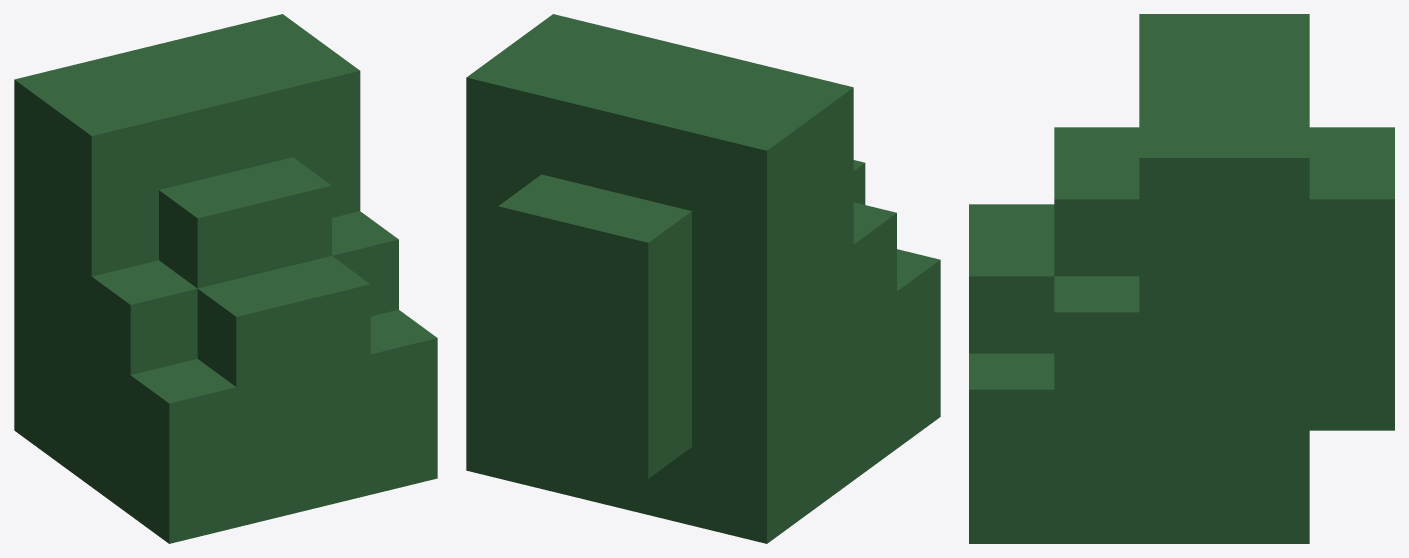
The model's file is Leech Guy Body 1.obj.
3 renders of one model, left to right at view 1: azimuth 30°, elevation 25°; view 2: azimuth 150°, elevation 25°; view 3: azimuth 270°, elevation 25°, orthographic. The views are drawn at different scales.
Size of the model in its own units: 4 by 5 by 5.
Materials: 1 (1 with a texture image).
